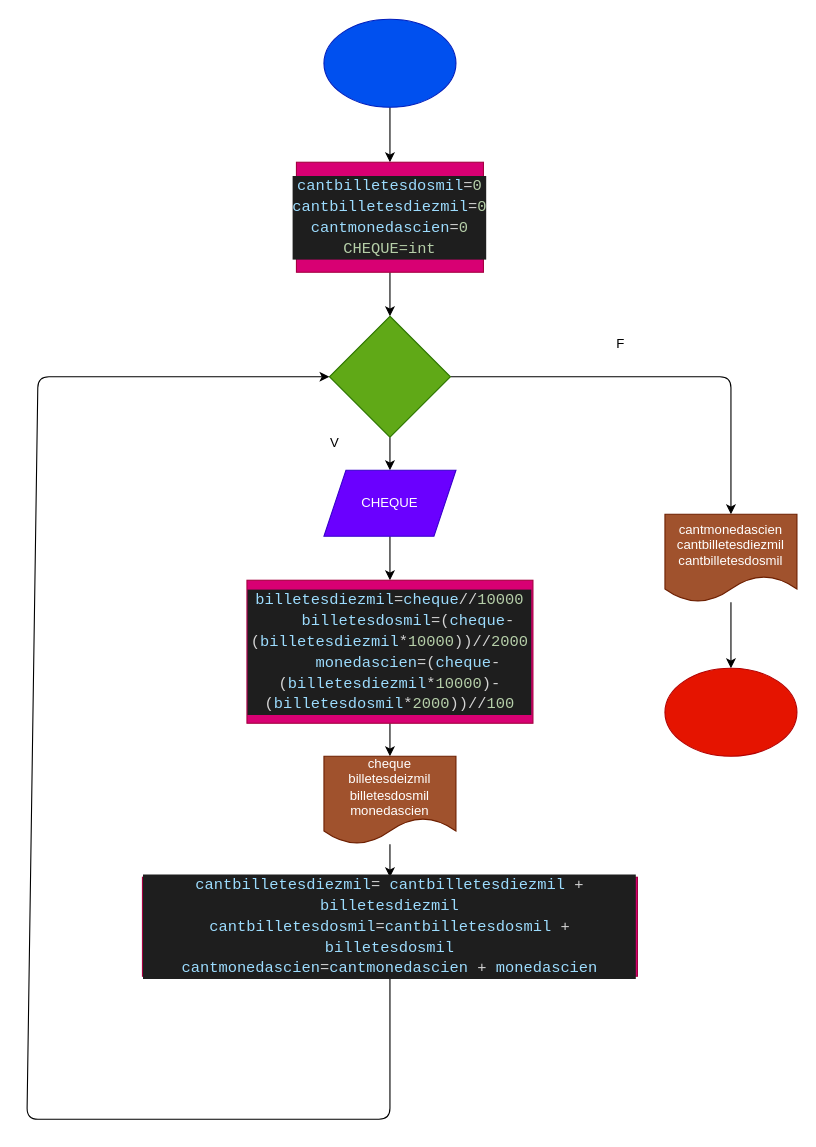
Some shapes in this 816 by 1147 pixel diagram are drawn without their labels. Here are the shapes that lost their labels. From the top down, the centre of each, then its label:
At (x=389, y=62): "INICIO".
At (x=389, y=376): "cheque != 0".
At (x=730, y=711): "FIN".
